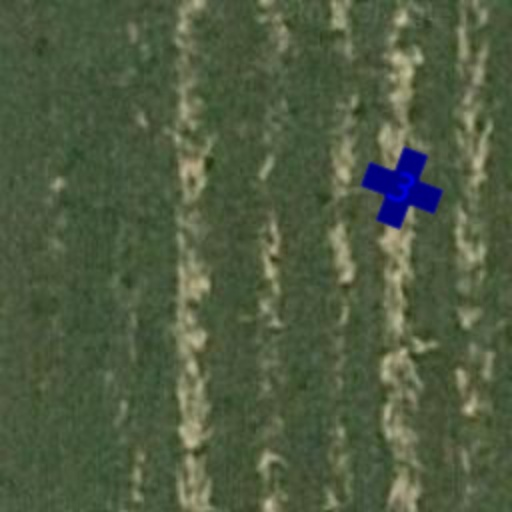cross: (350, 136, 454, 240)
